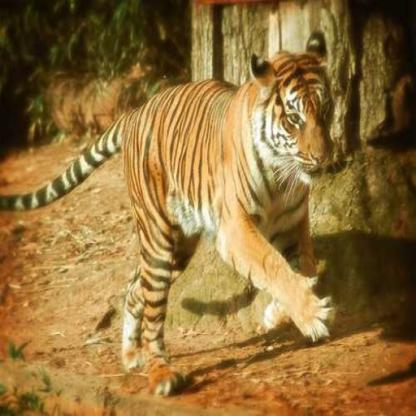Tiger: (0, 31, 354, 371)
